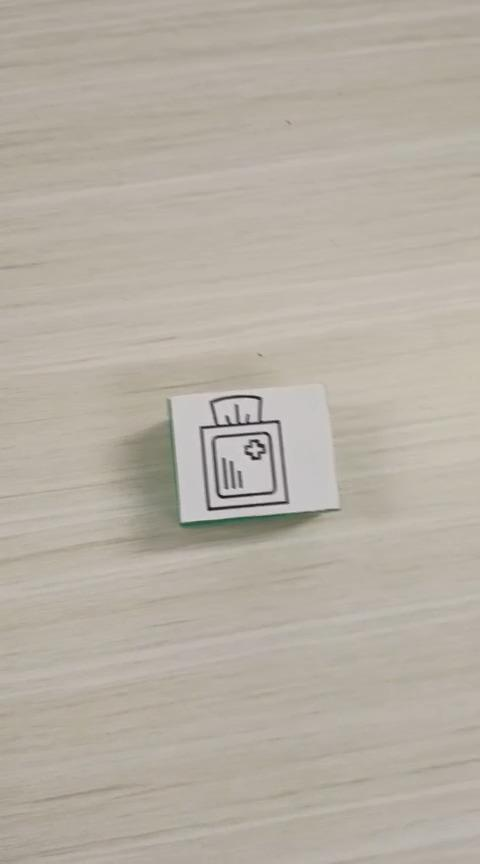Gauze: (165, 381, 341, 526)
